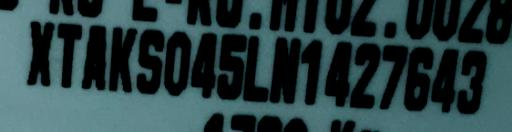letter: (402, 43, 434, 112), (349, 42, 381, 110), (456, 48, 488, 115), (270, 36, 302, 102), (378, 43, 408, 111), (431, 45, 459, 117), (26, 19, 54, 90), (108, 26, 138, 91), (324, 40, 352, 108), (218, 32, 246, 99), (136, 28, 164, 94), (190, 30, 216, 98), (243, 33, 269, 100), (81, 24, 107, 90), (164, 29, 190, 95), (56, 23, 82, 88), (300, 38, 322, 105)
